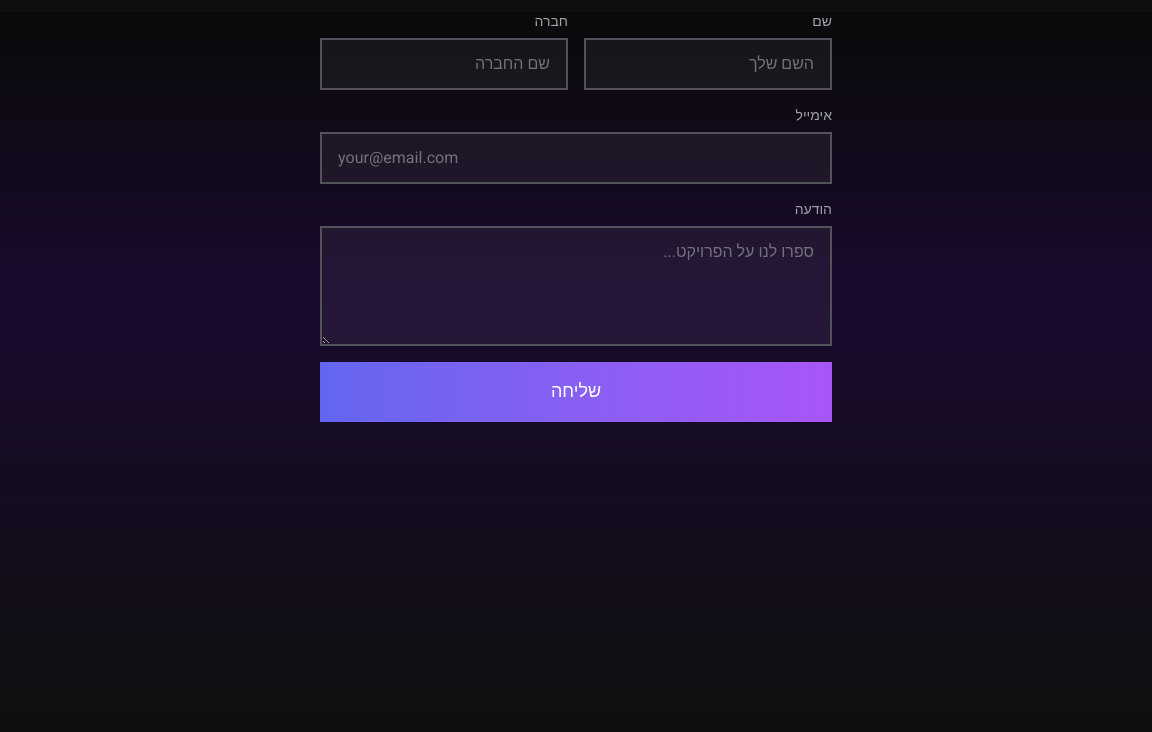
Scenario: ContactForm › shows validation errors when submitting empty
The image size is (1152, 732).
Click the button "שליחה" at (576, 392), box [320, 362, 832, 422]
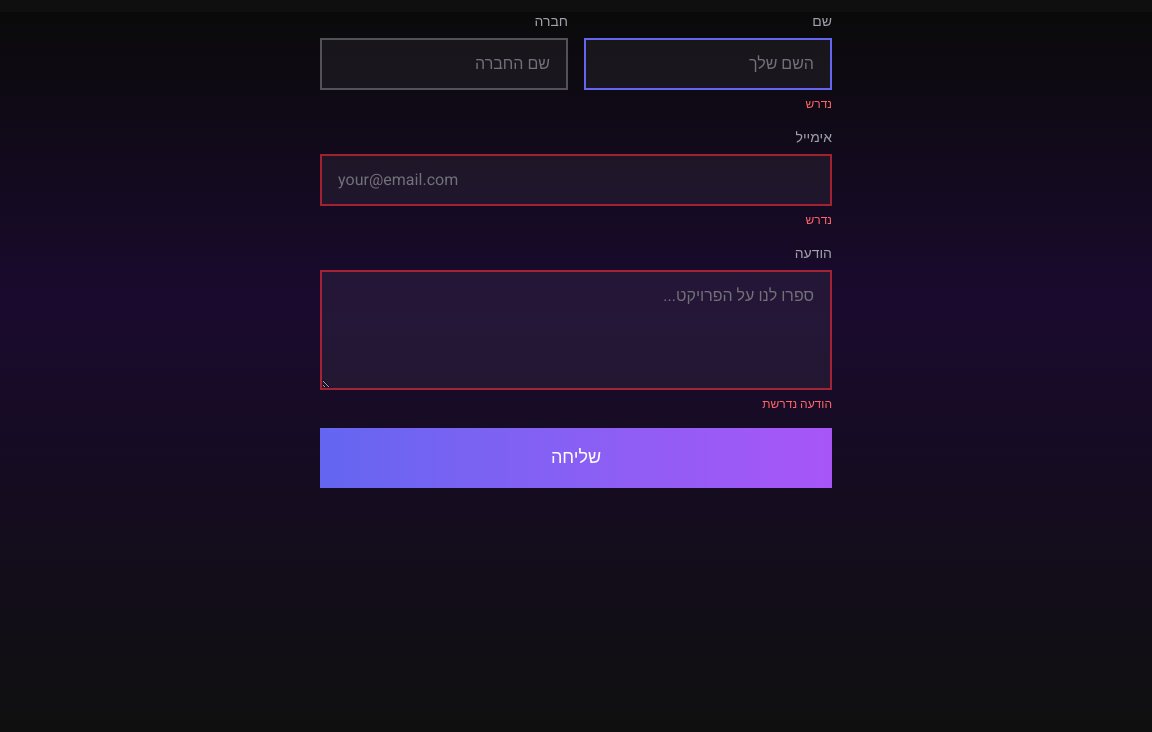
Check: the text "הודעה נדרשת" is shown, box [762, 395, 832, 413]
